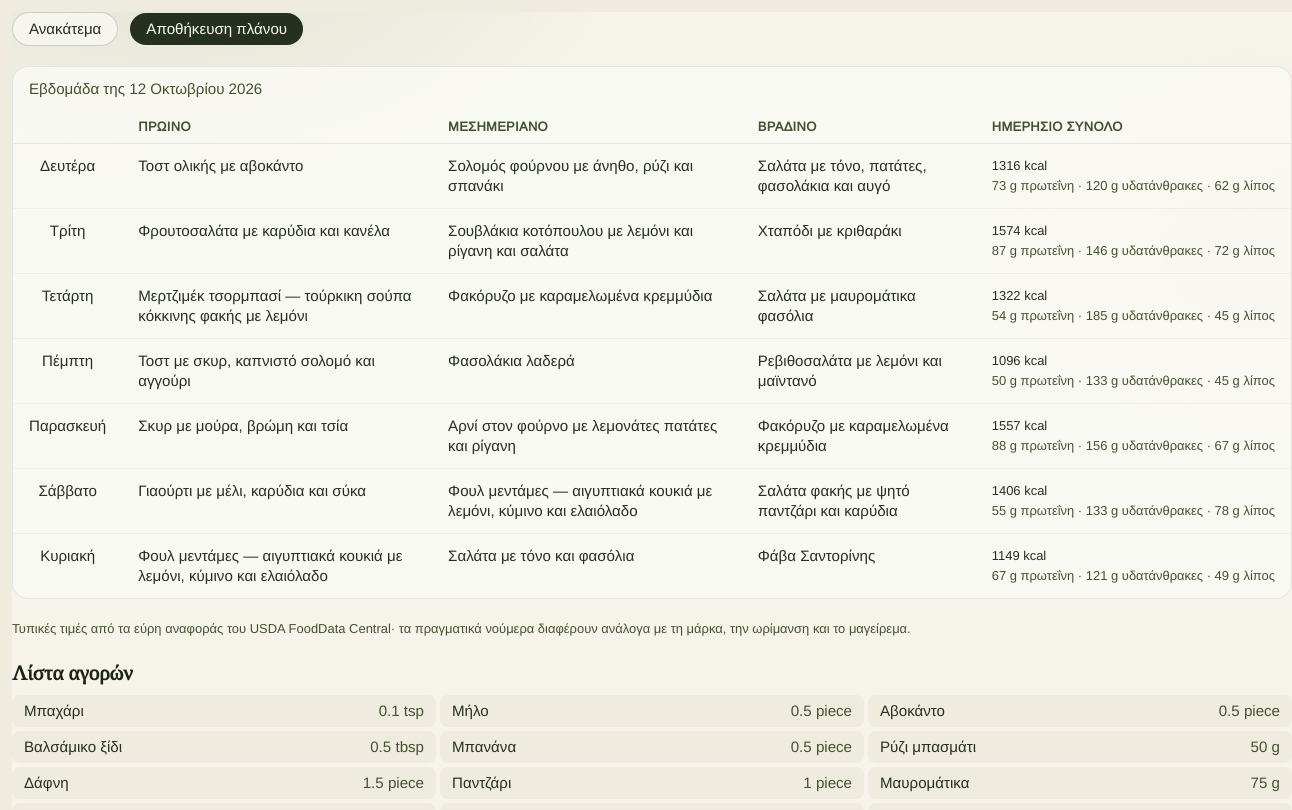
<PlanView> › shows the failure copy when save is refused
Click the button "Αποθήκευση πλάνου" at (217, 29), box [130,13,303,45]
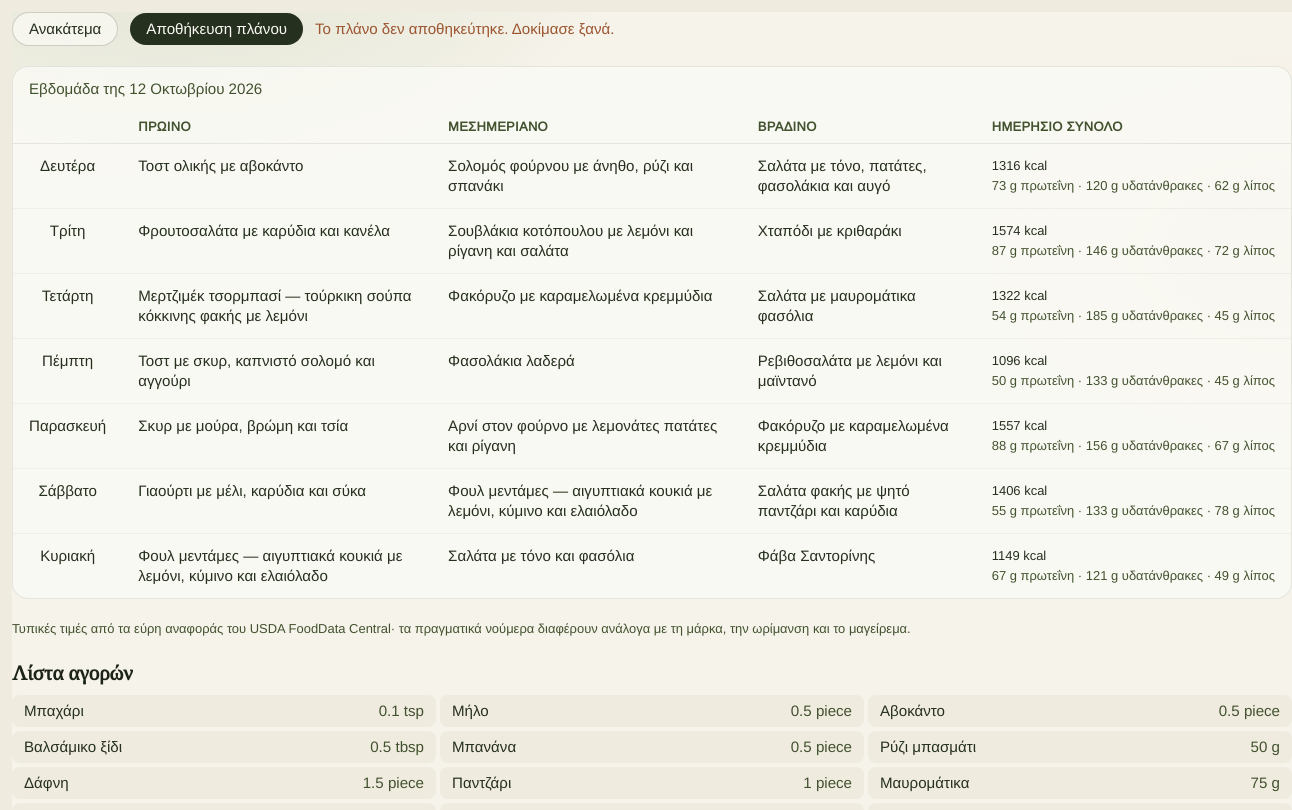
expect the message reads "Το πλάνο δεν αποθηκεύτηκε. Δοκίμασε ξανά.": met, box [315,20,614,37]
